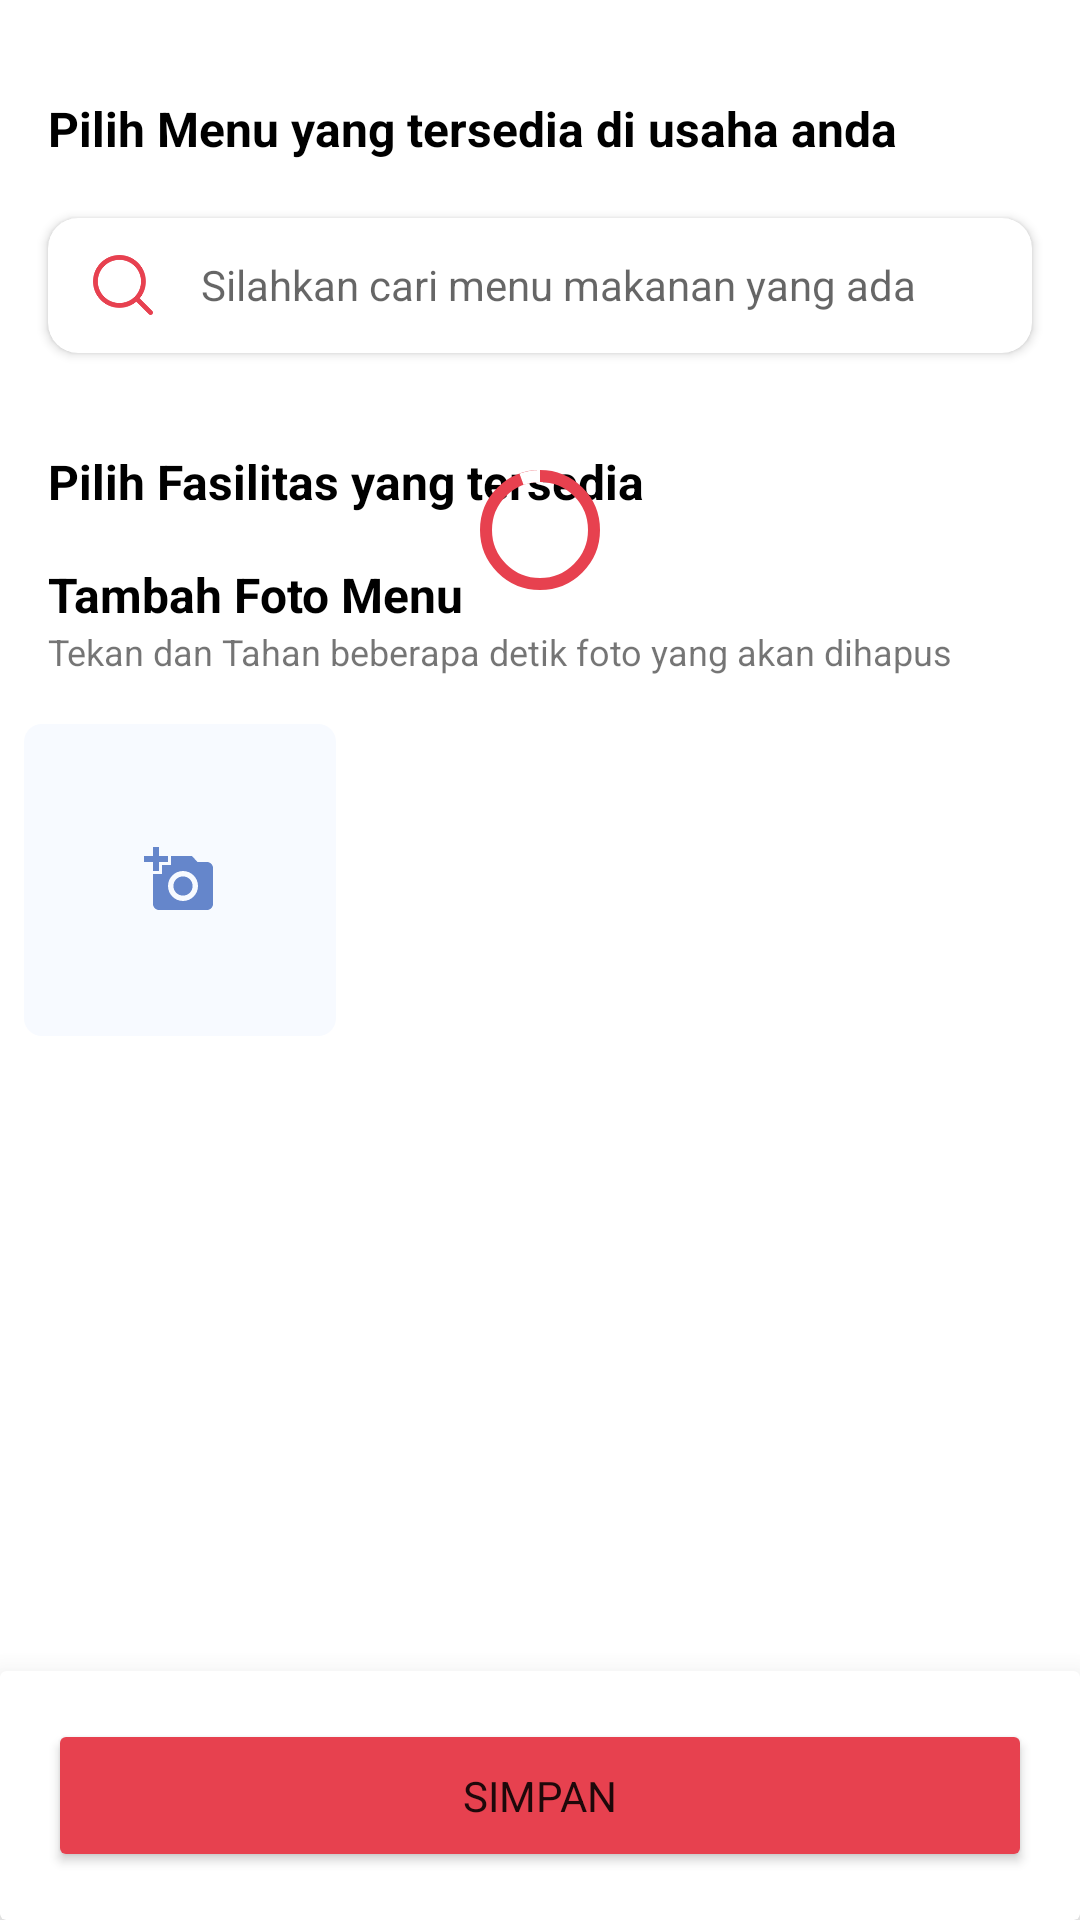

Screen size 1080px x 1920px. Icon name, then its center in pixels as (x=x, y=y):
Icon Search: (x=123, y=285)
